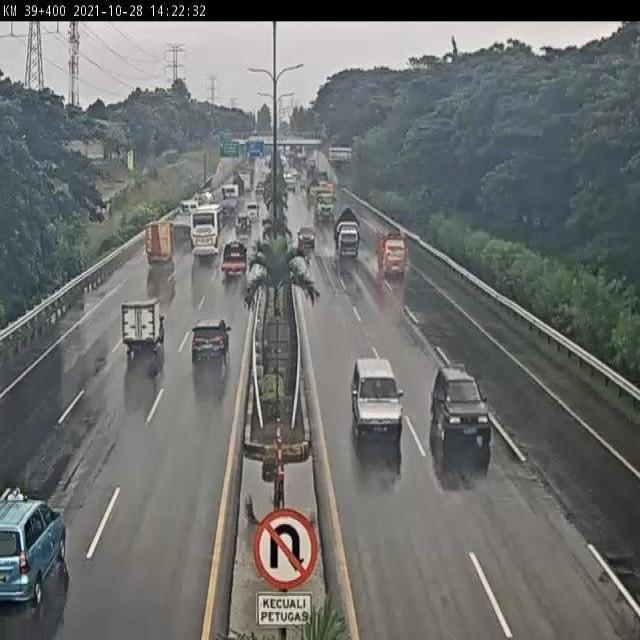Bus: (190, 201, 226, 256)
Car: (0, 491, 69, 605), (429, 363, 495, 447), (348, 354, 407, 446), (188, 317, 234, 368), (297, 223, 316, 250), (233, 213, 253, 238)
Truck: (120, 296, 165, 359), (376, 227, 409, 279), (144, 220, 176, 266), (335, 207, 362, 260), (214, 182, 240, 222), (221, 239, 248, 277), (313, 187, 337, 224)
Van: (245, 200, 260, 224)
